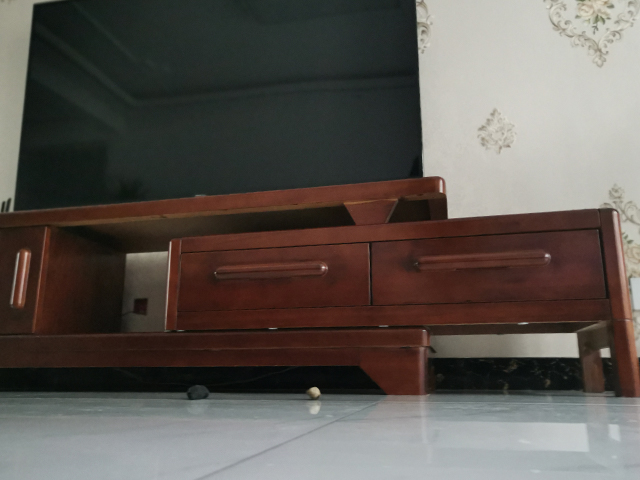cabinet: (1, 172, 639, 399)
feces: (184, 383, 212, 402), (303, 385, 323, 402)
